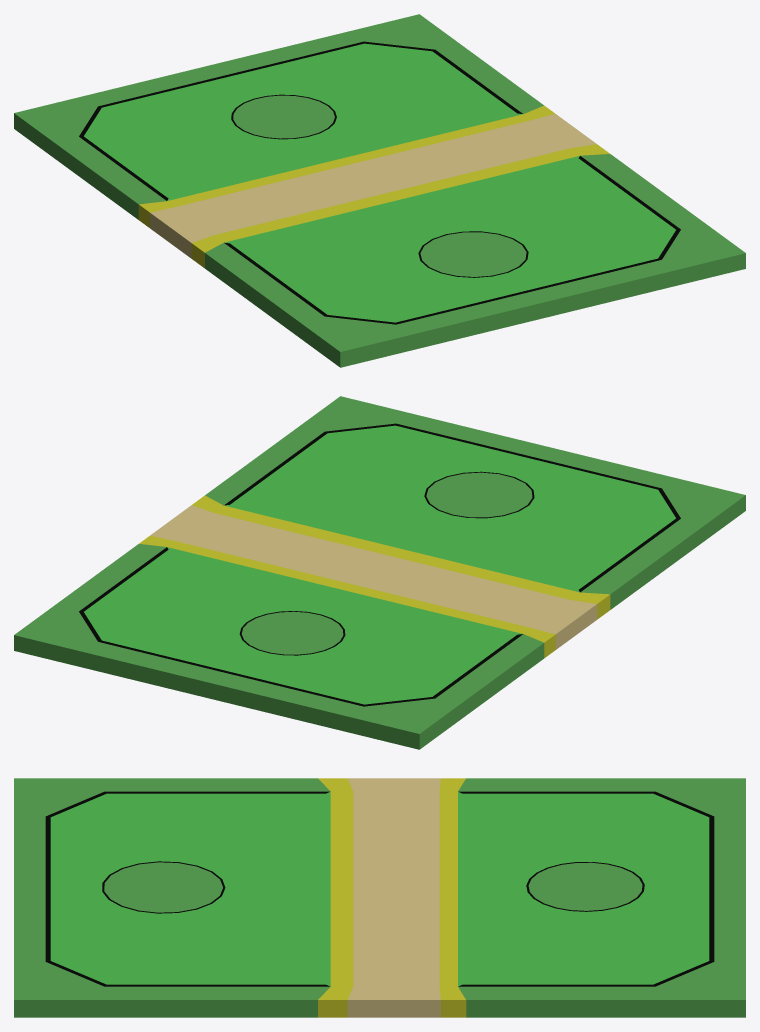
The model's file is money.fbx.
3 renders of one model, top to bottom at view 1: azimuth 30°, elevation 25°; view 2: azimuth 150°, elevation 25°; view 3: azimuth 270°, elevation 25°, orthographic. The views are drawn at different scales.
Visible parts, largest first — view 1: Plane; view 2: Plane; view 3: Plane.
Boxes of the visible parts, box(x1,y1,x2,y2) form: Plane: box(14, 14, 745, 367); Plane: box(14, 396, 745, 749); Plane: box(14, 778, 745, 1017).
Size of the model in its own units: 214 by 7.95 by 298.
